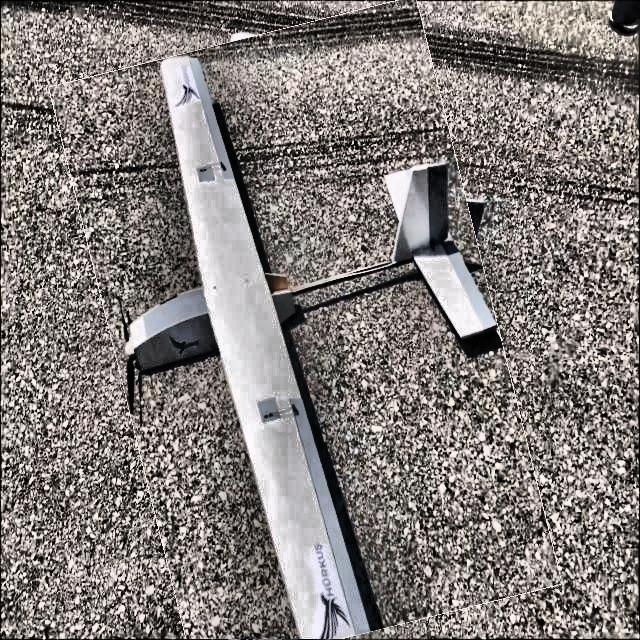iha: (96, 16, 503, 634)
